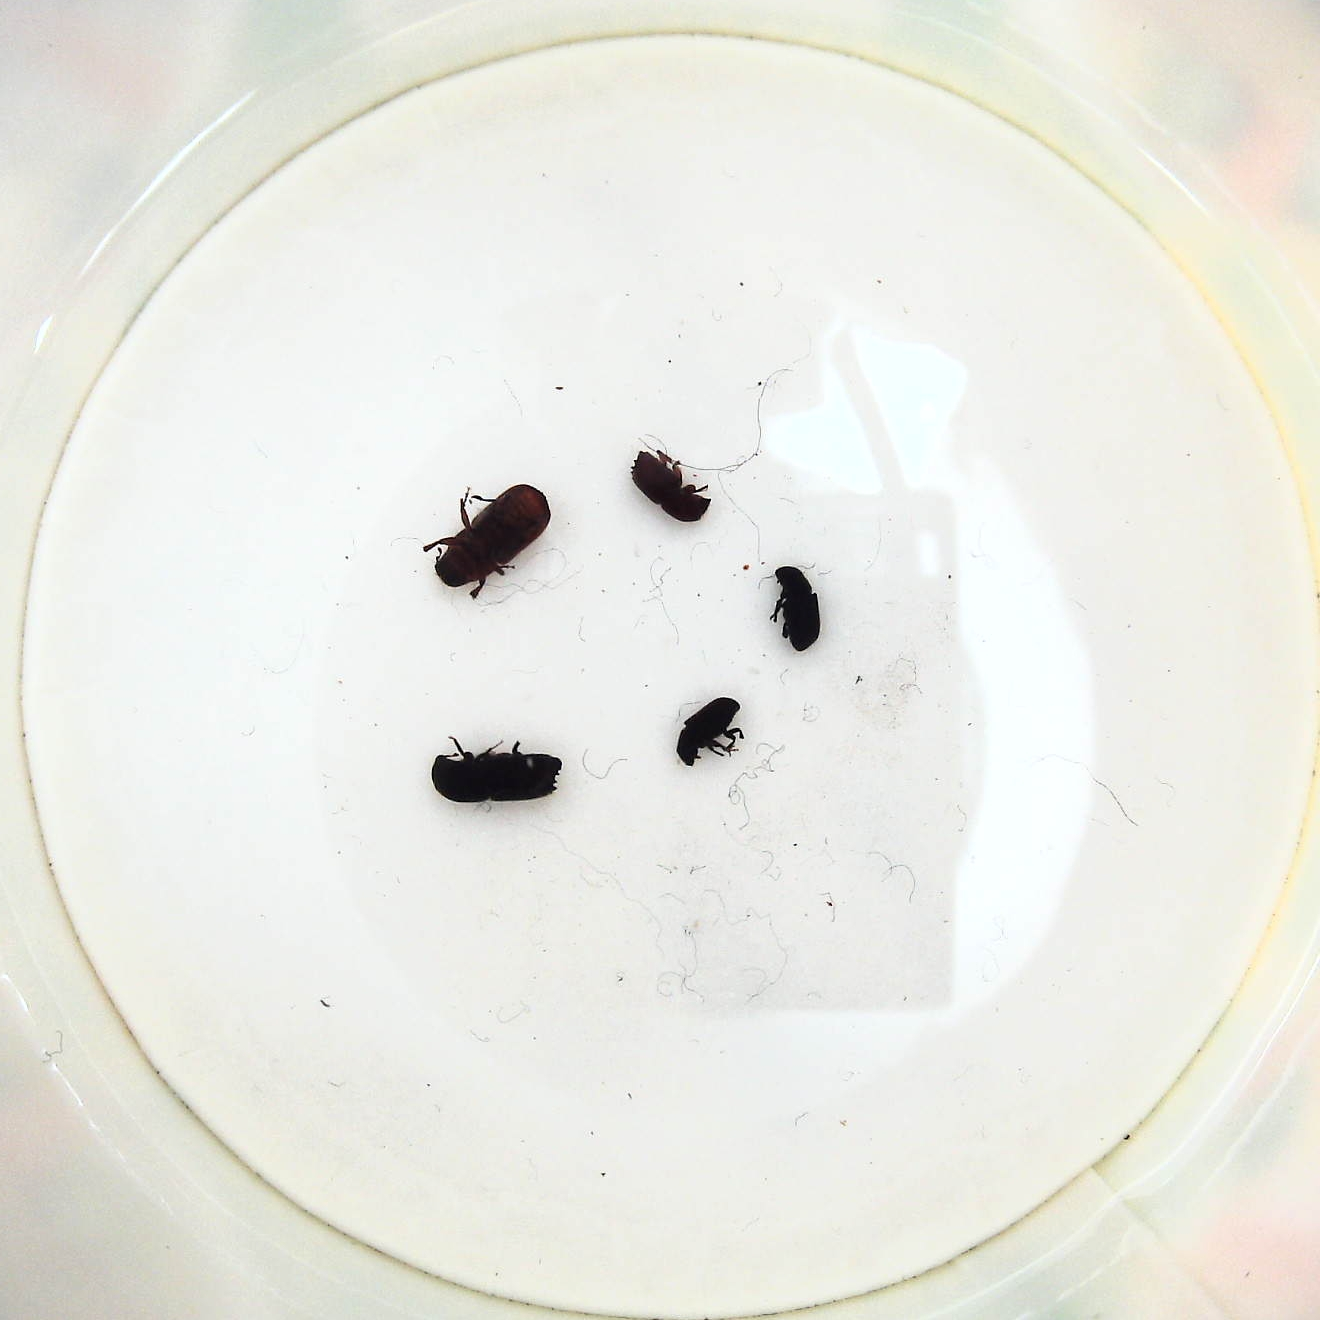Boerner: (432, 737, 563, 810)
Leconte: (424, 486, 558, 603)
armandi: (768, 558, 826, 658)
coleoptera: (675, 696, 753, 774)
linnaeus: (626, 448, 714, 529)
